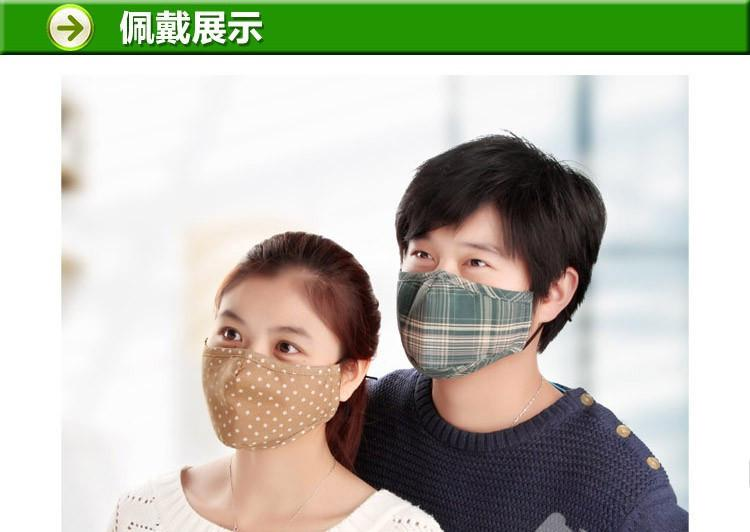OK: (393, 225, 551, 381), (201, 309, 335, 443)
